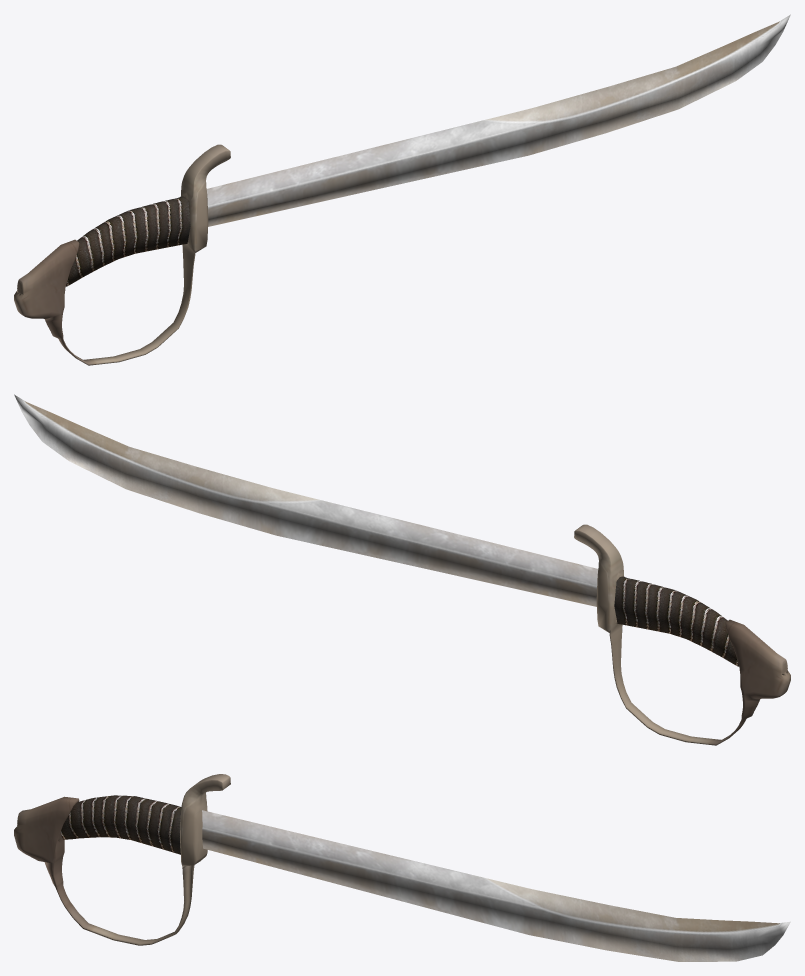
The model's file is Cutlass.FBX.
3 renders of one model, top to bottom at view 1: azimuth 30°, elevation 25°; view 2: azimuth 150°, elevation 25°; view 3: azimuth 330°, elevation 25°, orthographic.
Parts seen in each view (by area): view 1: Object002; view 2: Object002; view 3: Object002.
Part boxes in pixels (bbox=[...]): Object002: bbox=[14, 14, 790, 365]; Object002: bbox=[14, 394, 790, 745]; Object002: bbox=[14, 774, 790, 961].
Size of the model in its own units: 33870 by 7830 by 1064.
